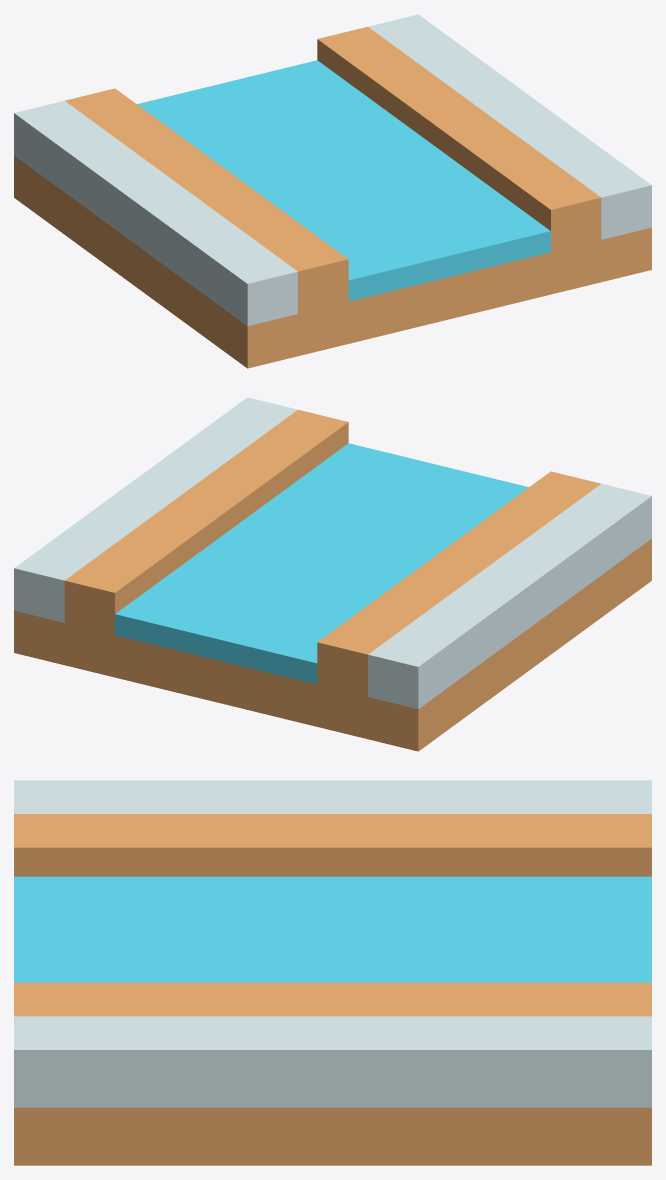
Rendered from snow_tile_riverStraight.dae.
3 views of the same model, one above another, from view 1: azimuth 30°, elevation 25°; view 2: azimuth 150°, elevation 25°; view 3: azimuth 270°, elevation 25° (orthographic). The views are drawn at different scales.
Visible parts, largest first — view 1: snow_tile_riverStraight; view 2: snow_tile_riverStraight; view 3: snow_tile_riverStraight.
Boxes of the visible parts, <box> form: snow_tile_riverStraight: <box>14,14,651,368</box>; snow_tile_riverStraight: <box>14,397,651,751</box>; snow_tile_riverStraight: <box>14,780,651,1165</box>.
Bounding box in the file's own units: 1 × 0.2 × 1.
